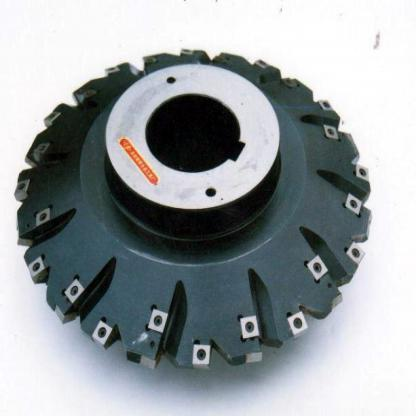FOD: (14, 42, 376, 380)
